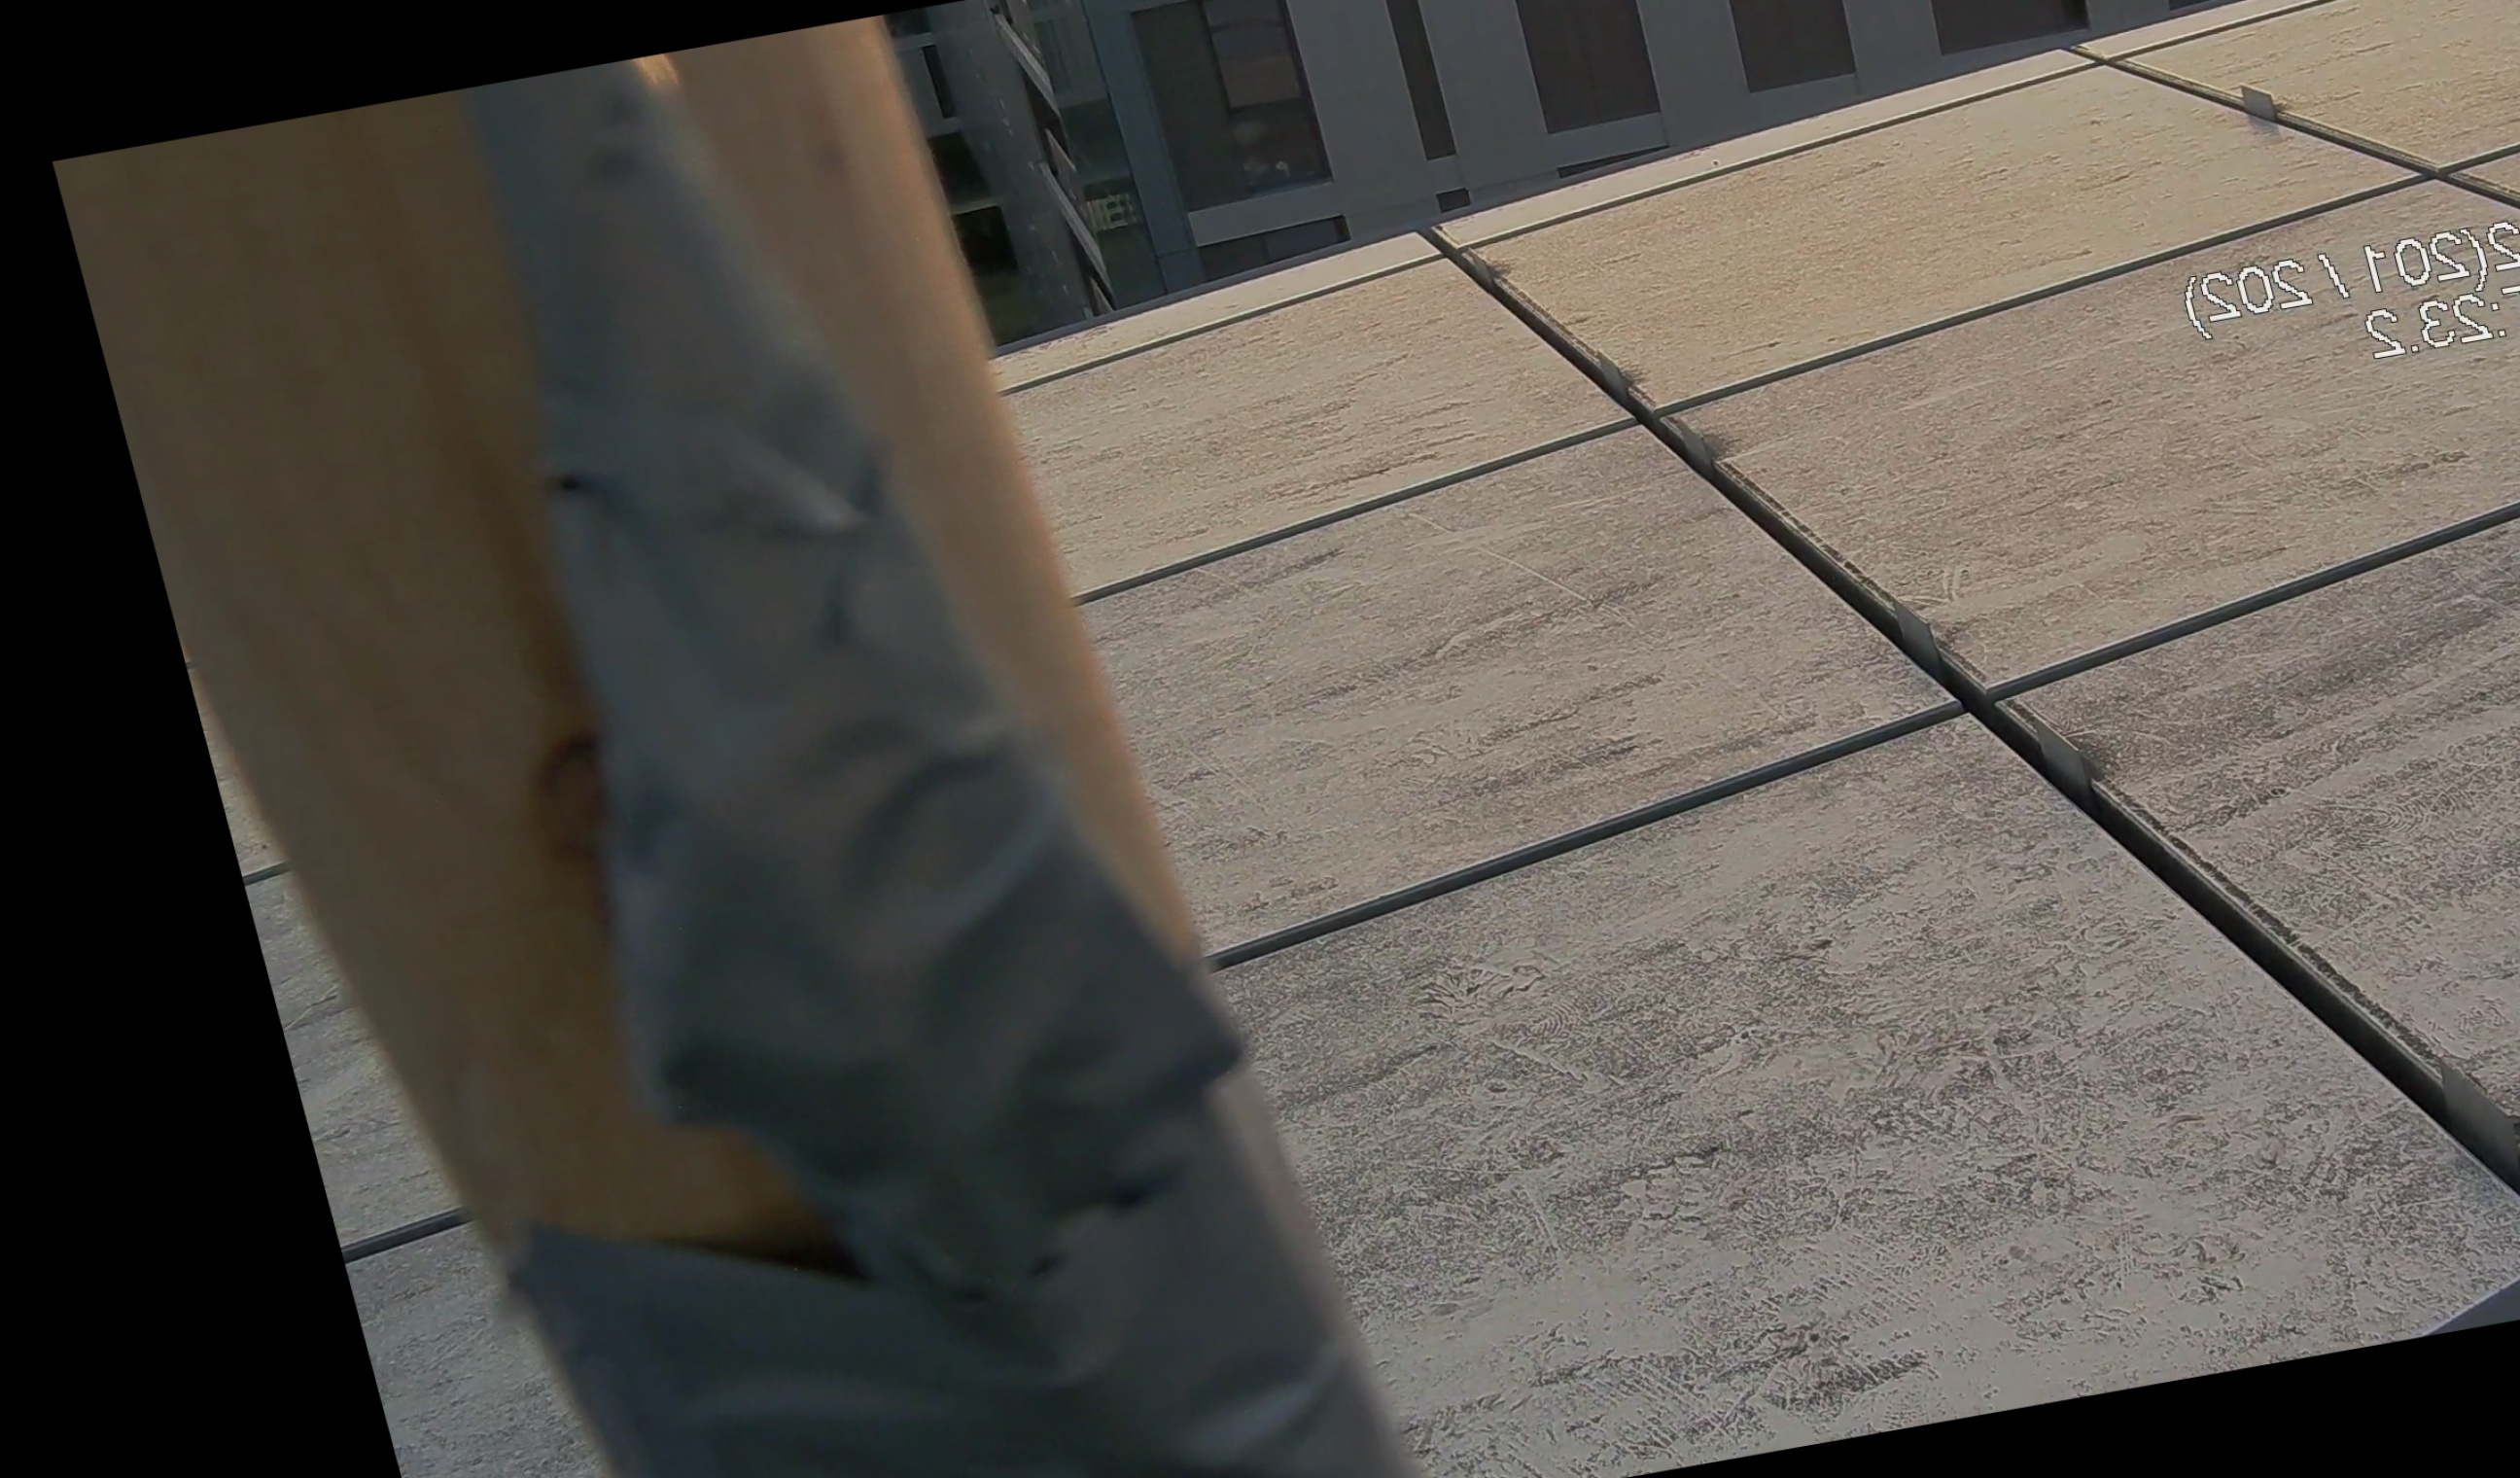Other: (137, 0, 1403, 1478)
